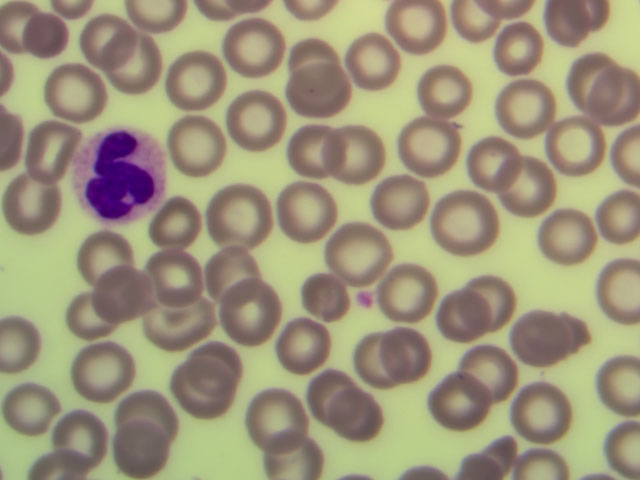Platelets: (356, 290, 376, 307)
RBC: (39, 431, 90, 480), (271, 431, 322, 480), (23, 10, 74, 58), (74, 14, 125, 62), (108, 37, 159, 85), (46, 66, 97, 114), (23, 118, 74, 166), (8, 167, 59, 215), (172, 57, 223, 105), (231, 23, 282, 71), (279, 28, 330, 76), (295, 67, 346, 115), (349, 39, 400, 87), (233, 93, 284, 141), (173, 123, 224, 171), (210, 190, 261, 238), (152, 196, 203, 244), (153, 251, 204, 299), (101, 268, 152, 316), (75, 230, 126, 278), (67, 291, 118, 339), (80, 347, 131, 395), (11, 382, 62, 430), (57, 405, 108, 453), (103, 431, 154, 479), (118, 387, 169, 435), (171, 363, 222, 411), (191, 343, 242, 391), (151, 294, 202, 342), (211, 243, 262, 291), (215, 291, 266, 339), (280, 185, 331, 233), (287, 125, 338, 173), (332, 124, 383, 172), (405, 120, 456, 168), (421, 67, 472, 115), (501, 23, 552, 71), (458, 3, 509, 51), (565, 47, 616, 95), (589, 73, 640, 121), (546, 118, 597, 166), (503, 83, 554, 131), (503, 161, 554, 209), (463, 135, 514, 183), (436, 192, 487, 240), (373, 171, 424, 219), (329, 226, 380, 274), (302, 276, 353, 324), (275, 319, 326, 367), (301, 364, 352, 412), (327, 389, 378, 437), (259, 392, 310, 440), (435, 376, 486, 424), (463, 348, 514, 396), (378, 328, 429, 376), (357, 336, 408, 384), (392, 271, 443, 319), (426, 297, 477, 345), (480, 269, 531, 317), (509, 311, 560, 359), (520, 383, 571, 431), (589, 257, 640, 305), (589, 188, 640, 236), (540, 212, 591, 260), (391, 1, 442, 48), (517, 446, 569, 479)
WBC: (80, 125, 175, 232)
